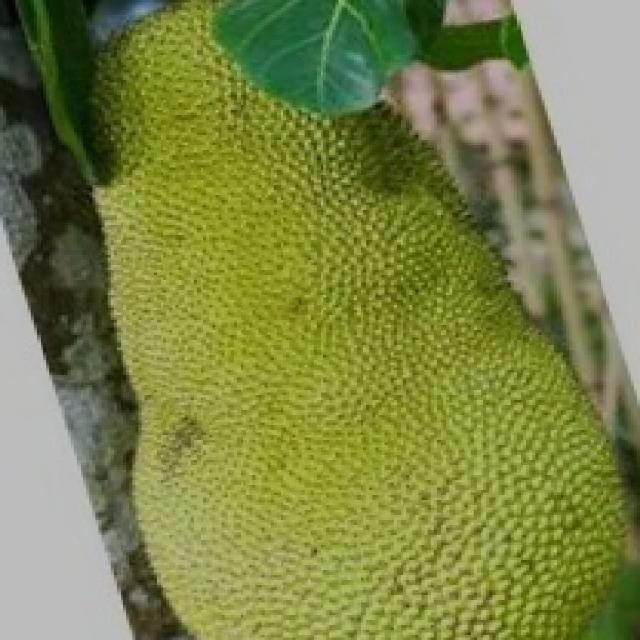Fruit: (33, 0, 455, 412), (283, 247, 637, 640)
